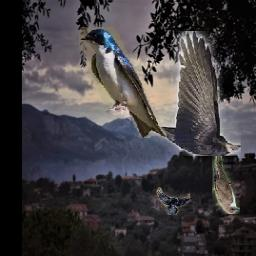Crow: (146, 32, 242, 157), (156, 187, 190, 215)
Cuckoo: (213, 128, 241, 214)
Swallow: (79, 28, 167, 139)
